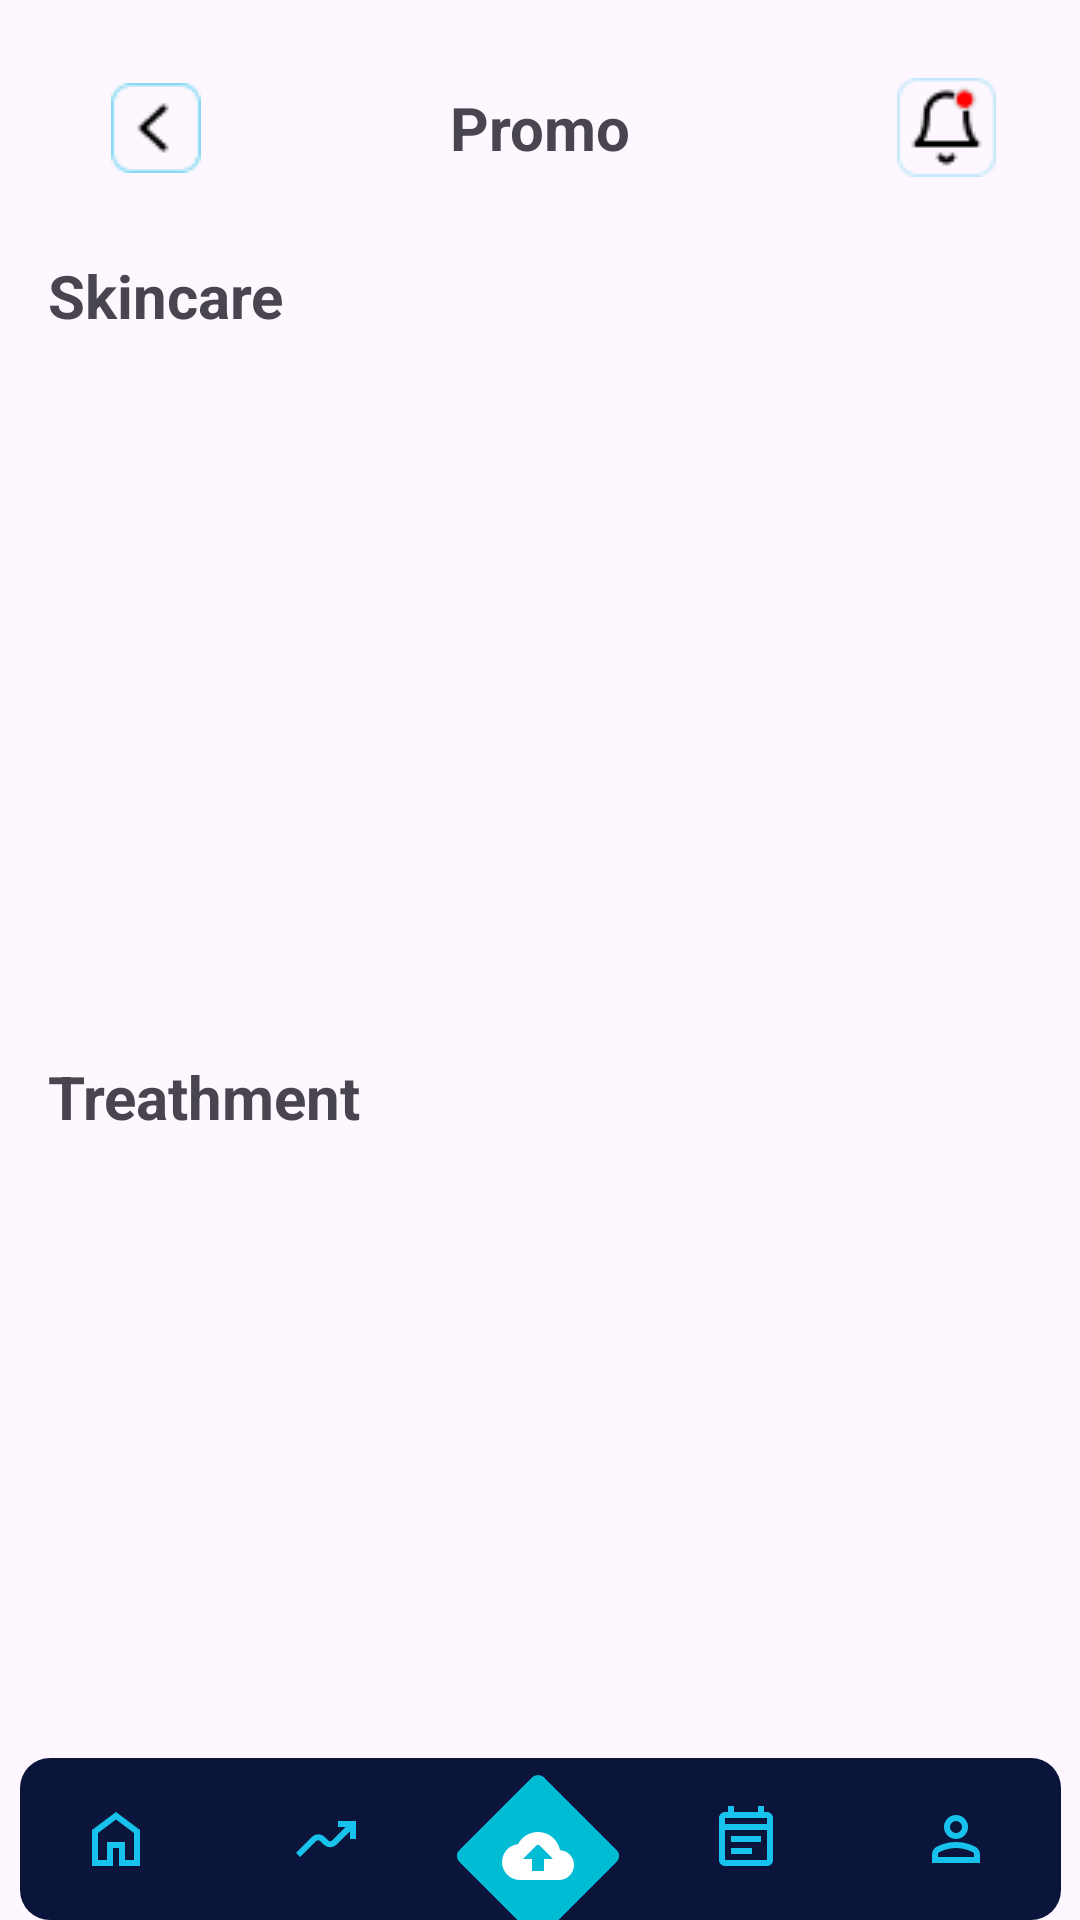

Named icons in this screenshot (1080w x 1920h) and their bounding boxes, (x1, y1, x2, y2):
Button untuk kembali: (111, 83, 201, 173)
Button untuk melihat notif: (897, 78, 996, 177)
cloud upload: (502, 1832, 574, 1880)
event note: (719, 1806, 773, 1866)
home: (92, 1812, 140, 1866)
moving: (296, 1821, 356, 1857)
person: (932, 1815, 980, 1863)
